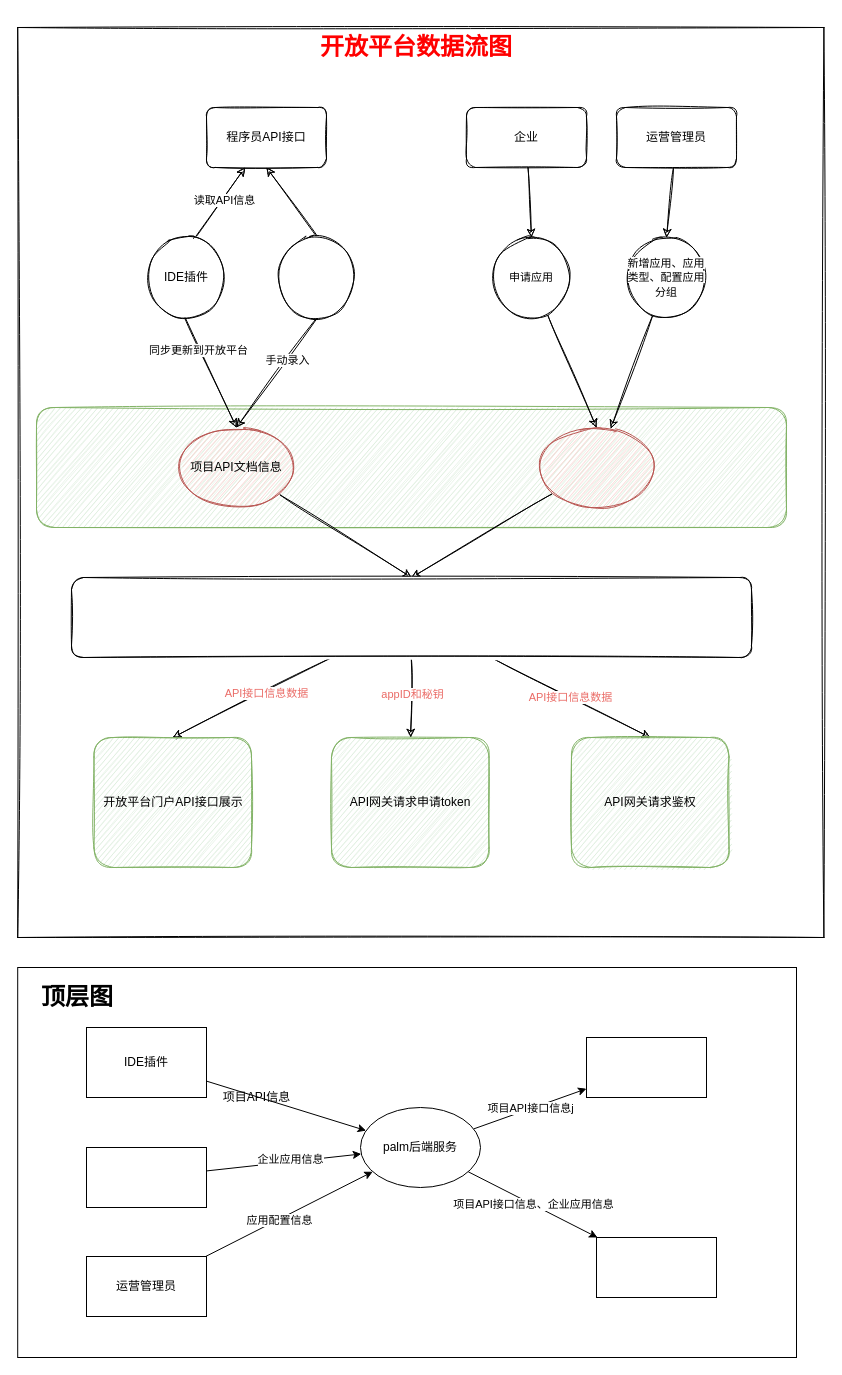
This 842x1375 diagram has some shape labels left out. Each missing label, with the box of its shape:
API网关: (596, 1236, 716, 1298)
企业管理员: (86, 1146, 206, 1208)
应用信息: (536, 426, 656, 508)
开放平台: (36, 406, 786, 528)
开放平台mysql: (70, 576, 752, 658)
开放平台展示系统: (586, 1036, 706, 1098)
程序员自己手动录入: (276, 236, 356, 318)
